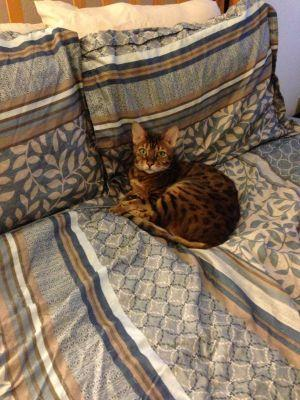bengal: (125, 115, 186, 184)
